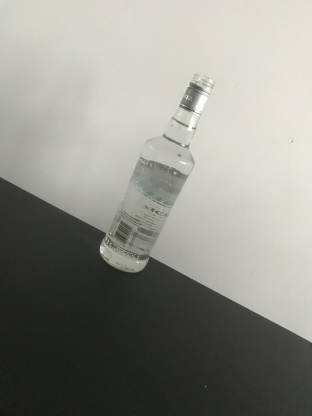nakretka: (177, 71, 216, 117)
